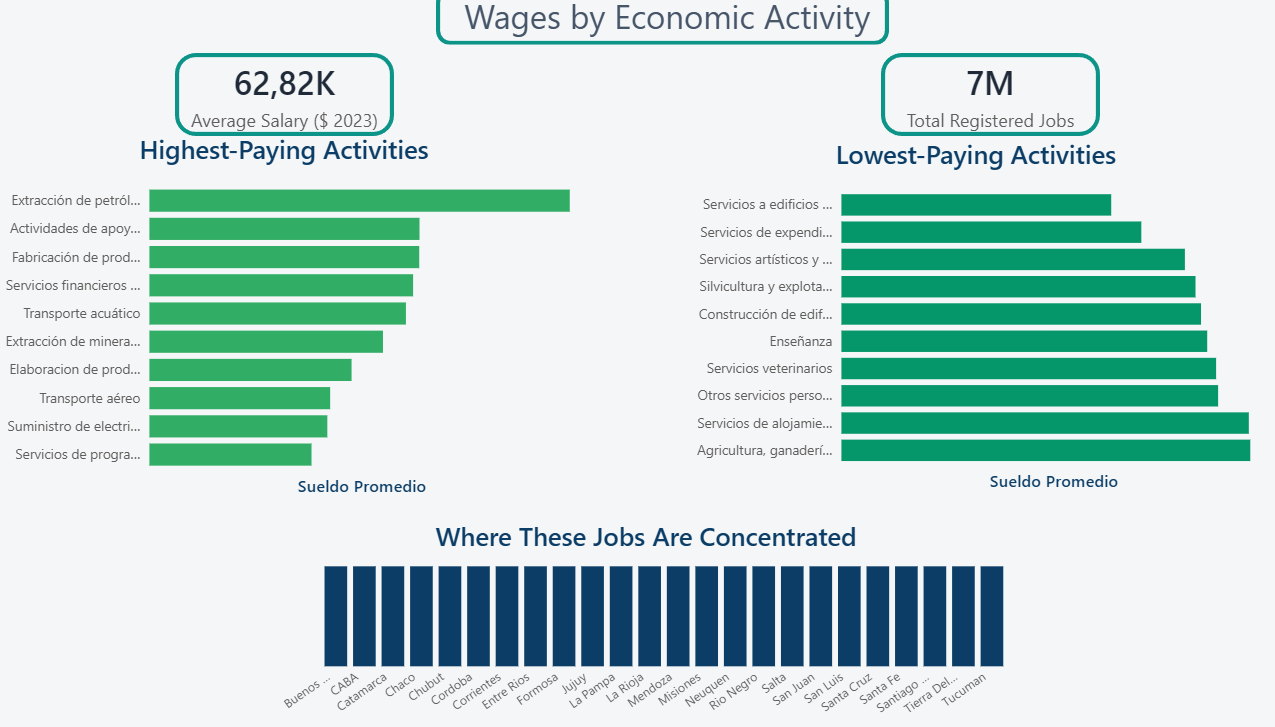

What the dashboard file says about the page in this screenshot:
{"tool":"powerbi","page":{"name":"Wages by Economic Activity","canvas":[1280,720],"ordinal":5},"visuals":[{"type":"clusteredBarChart","title":"Highest-Paying Activities","fields":{"Category":["dim_clae.clae2_desc"],"Y":["Avg(fact_salario_clae.w_mean)"]},"box":[0,139.1,575.8,359.9],"z":0},{"type":"clusteredBarChart","title":"Lowest-Paying Activities","fields":{"Category":["dim_clae.clae2_desc"],"Y":["Avg(fact_salario_clae.w_mean)"]},"box":[673.1,144,575.8,350.2],"z":1000},{"type":"card","fields":{"Values":["Avg(fact_salario_clae.w_mean)"]},"box":[181.8,63,212.8,80.7],"z":2000},{"type":"card","fields":{"Values":["_Measures.Total Registered Jobs"]},"box":[868.6,63.2,213,80.7],"z":3000},{"type":"clusteredColumnChart","title":"Where These Jobs Are Concentrated","fields":{"Category":["dim_provincia.provincia"],"Y":["_Medidas.% Actividad en Provincia"]},"box":[276.2,515.5,727.5,204.3],"z":4000},{"type":"textbox","box":[315.7,0,689,55],"z":5000},{"type":"shape","box":[868.6,63.2,213,80.7],"z":6000},{"type":"shape","box":[181.9,63.2,213,80.7],"z":7000},{"type":"shape","box":[435.7,0,440.6,55.4],"z":8000}]}

Visuals, with their boxes in screenshot pixels (x1, y1, x2, y2), scaled from the page's 1280x720 canvas onto the 1275x727 screenshot:
"Highest-Paying Activities" clusteredBarChart: (left=0, top=140, right=574, bottom=504)
"Lowest-Paying Activities" clusteredBarChart: (left=670, top=145, right=1244, bottom=499)
card - Avg(fact_salario_clae.w_mean): (left=181, top=64, right=393, bottom=145)
card - _Measures.Total Registered Jobs: (left=865, top=64, right=1077, bottom=145)
"Where These Jobs Are Concentrated" clusteredColumnChart: (left=275, top=521, right=1000, bottom=726)
textbox: (left=314, top=0, right=1001, bottom=56)
shape: (left=865, top=64, right=1077, bottom=145)
shape: (left=181, top=64, right=393, bottom=145)
shape: (left=434, top=0, right=873, bottom=56)
